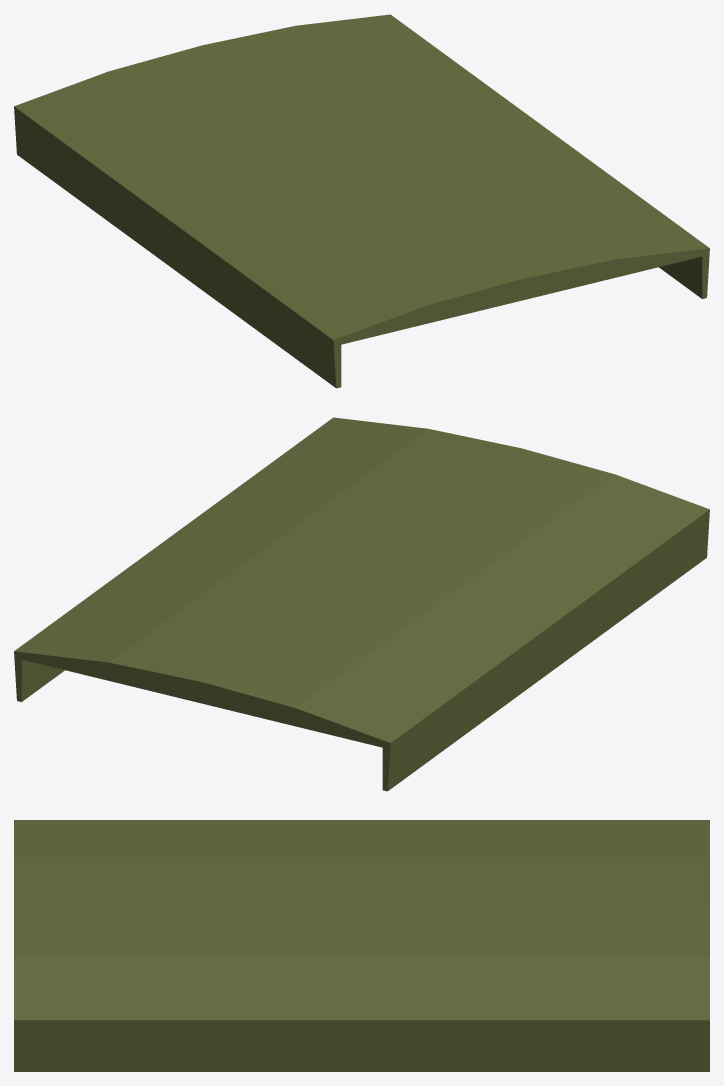
File: Itr_Bed_Single_Blanket_18.FBX
3 renders of one model, top to bottom at view 1: azimuth 30°, elevation 25°; view 2: azimuth 150°, elevation 25°; view 3: azimuth 270°, elevation 25°, orthographic. The views are drawn at different scales.
Parts seen in each view (by area): view 1: Itr_Bed_Single_Blanket_18; view 2: Itr_Bed_Single_Blanket_18; view 3: Itr_Bed_Single_Blanket_18.
Boxes of the visible parts, x1,y1,x2,y2 form: Itr_Bed_Single_Blanket_18: (14, 14, 709, 388); Itr_Bed_Single_Blanket_18: (14, 417, 709, 791); Itr_Bed_Single_Blanket_18: (14, 820, 709, 1071).
Bounding box in the file's own units: 44.15 × 7.19 × 64.86.
